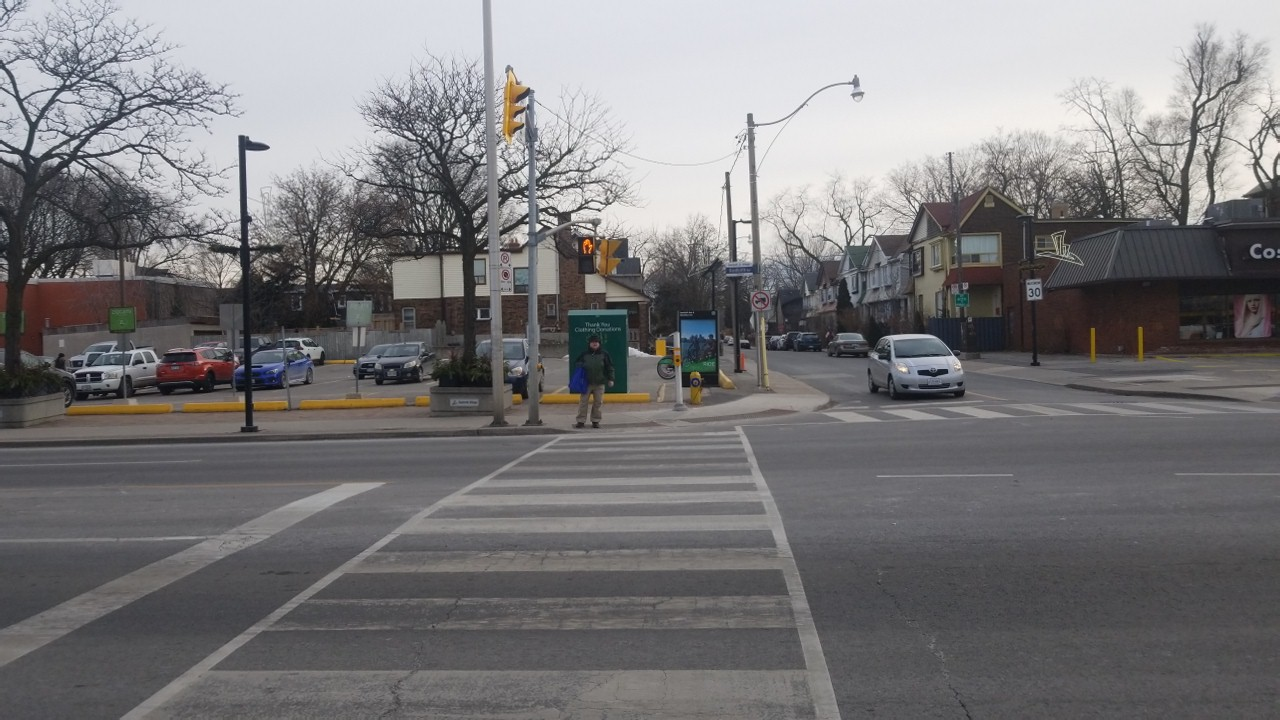light: (574, 234, 598, 275)
